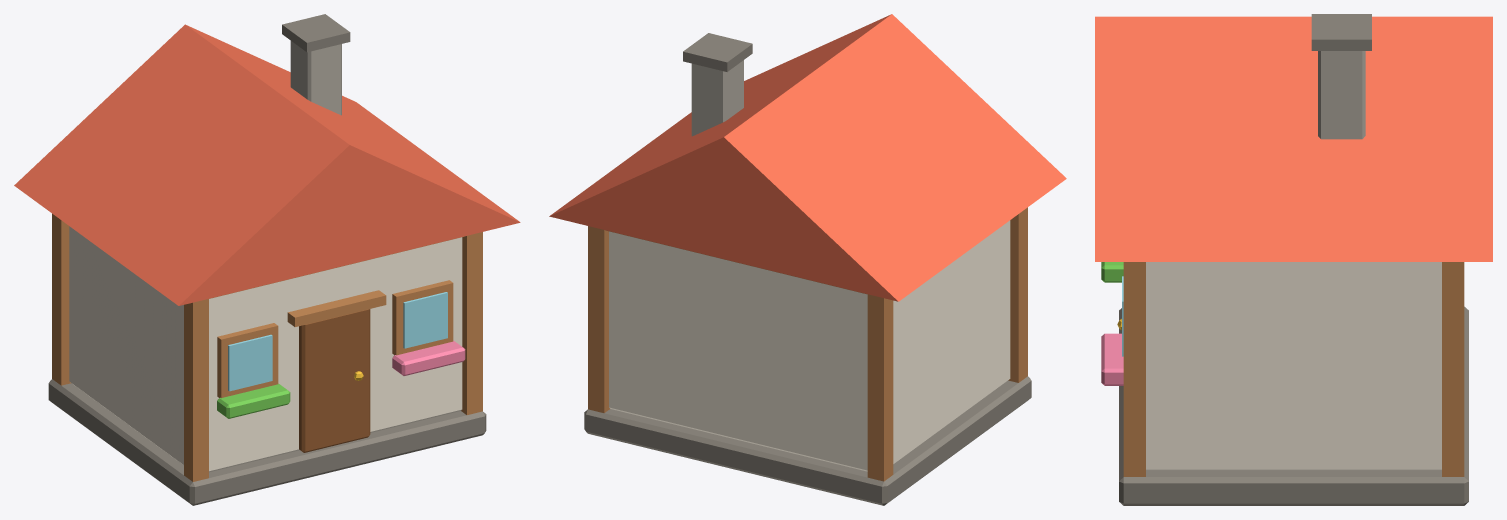
Rendered from house_a.glb.
3 views of the same model, side by side, from view 1: azimuth 30°, elevation 25°; view 2: azimuth 150°, elevation 25°; view 3: azimuth 270°, elevation 25° (orthographic). The views are drawn at different scales.
Parts seen in each view (by area): view 1: house_a; view 2: house_a; view 3: house_a.
Boxes of the visible parts, bbox=[...] form: house_a: bbox=[14, 14, 520, 505]; house_a: bbox=[549, 14, 1066, 505]; house_a: bbox=[1095, 14, 1492, 505].
Size of the model in its own units: 3 by 3.01 by 2.5.
